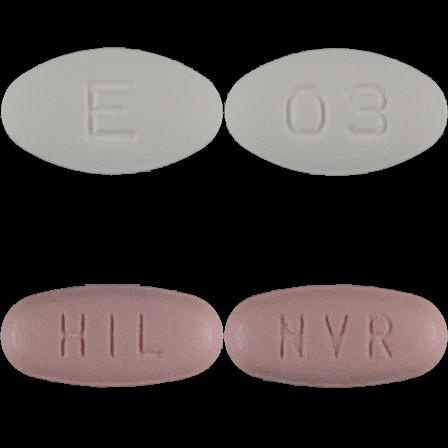54868-5773: (0, 0, 224, 224)
